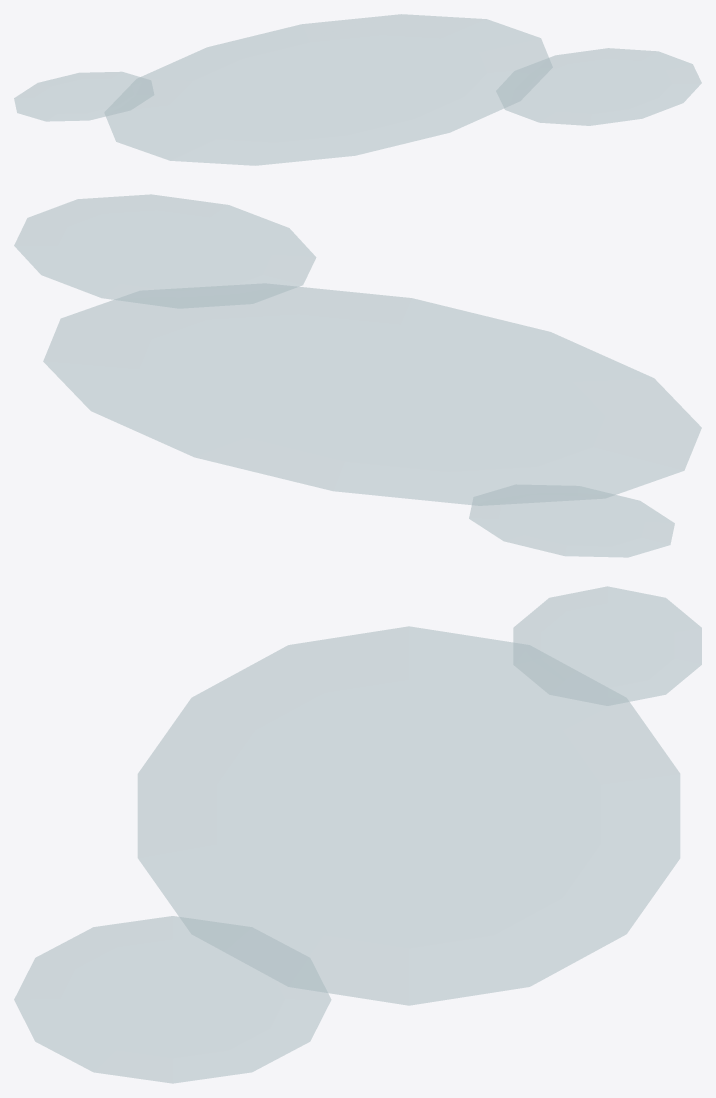
The model's file is puddle_plate.glb.
The picture shows the model from 3 angles, top to bottom: view 1: azimuth 30°, elevation 25°; view 2: azimuth 150°, elevation 25°; view 3: azimuth 270°, elevation 25°; orthographic projection. The views are drawn at different scales.
Visible parts, largest first — view 1: puddle-plate-glass; view 2: puddle-plate-glass; view 3: puddle-plate-glass.
Part boxes in pixels (x1,y1,x2,y2): puddle-plate-glass: [14, 14, 701, 165]; puddle-plate-glass: [14, 194, 701, 557]; puddle-plate-glass: [14, 586, 701, 1083].
Size of the model in its own units: 2.49 by 0.0116 by 1.46.
